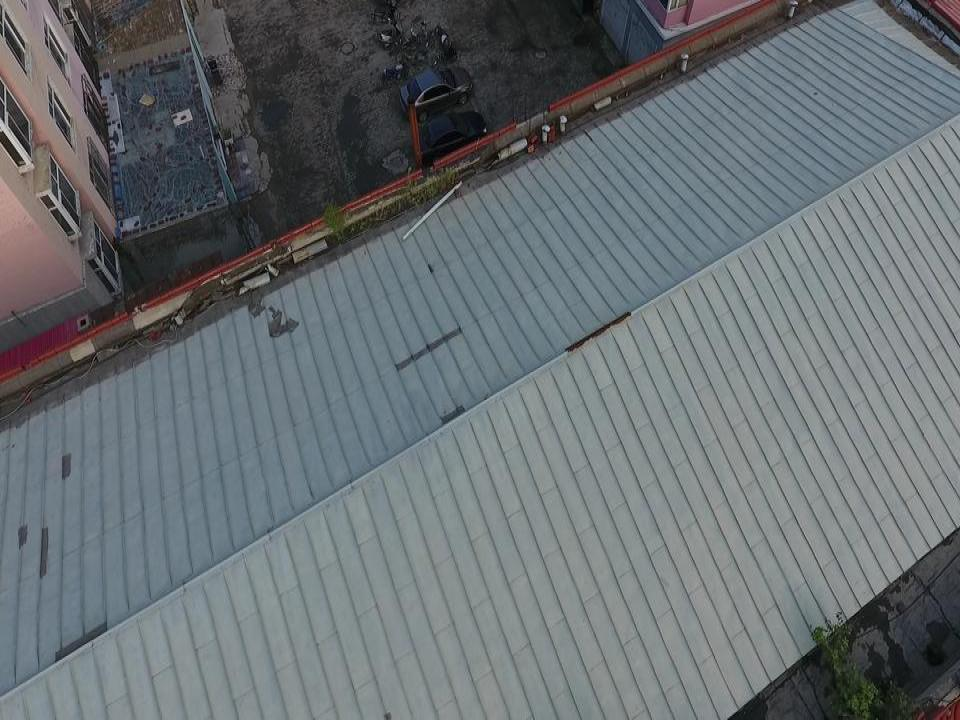car: (398, 65, 473, 123), (414, 109, 487, 168)
